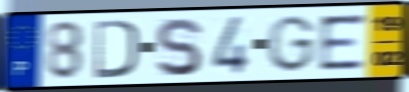4: (209, 14, 251, 77)
8: (45, 19, 86, 82)
D: (93, 17, 141, 80)
E: (317, 12, 369, 73)
G: (265, 14, 317, 74)
S: (153, 15, 204, 79)
